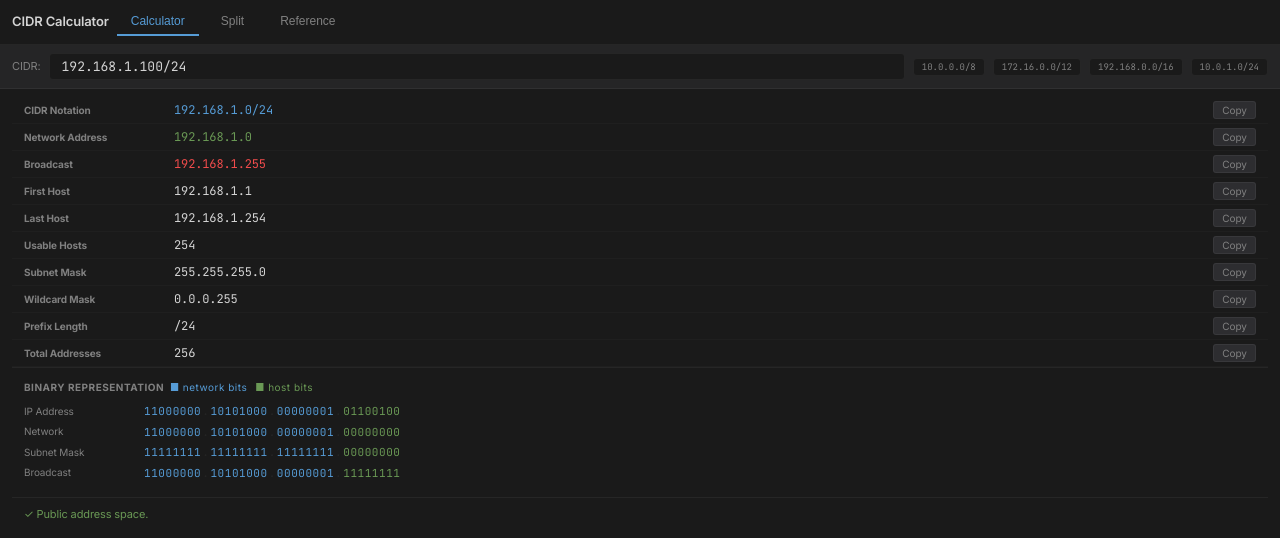
Scenario: CidrPanel — calculator › Given malformed CIDR 192.168.1x.1/24, then it rejects the entire value
The width and height of the screenshot is (1280, 538).
Replace the text in the field with placeholder "192.168.1.0/24" with "192.168.1x.1/24": (477, 66) [48,53,905,80]
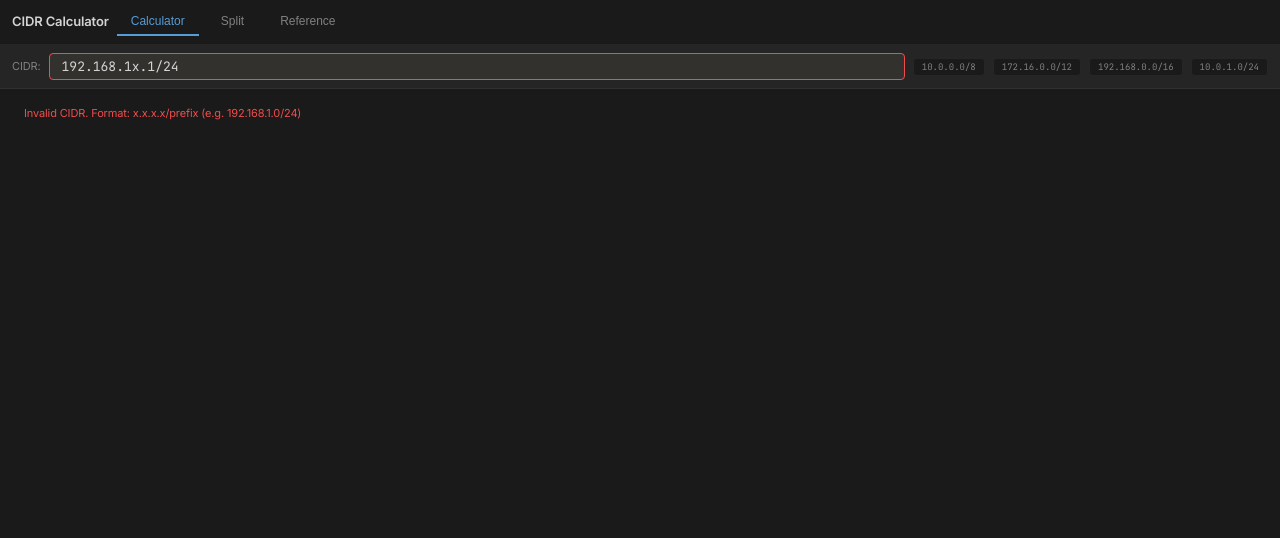
Expected: the text "Invalid CIDR. Format: x.x.x.x/prefix (e.g. 192.168.1.0/24)" is shown, [24,106,301,120]
Expected: the text "CIDR Notation" is gone
